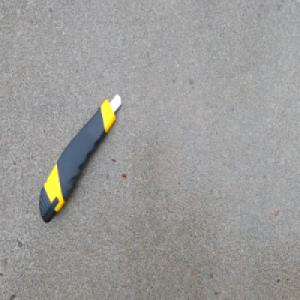Cutter: (38, 91, 122, 224)
